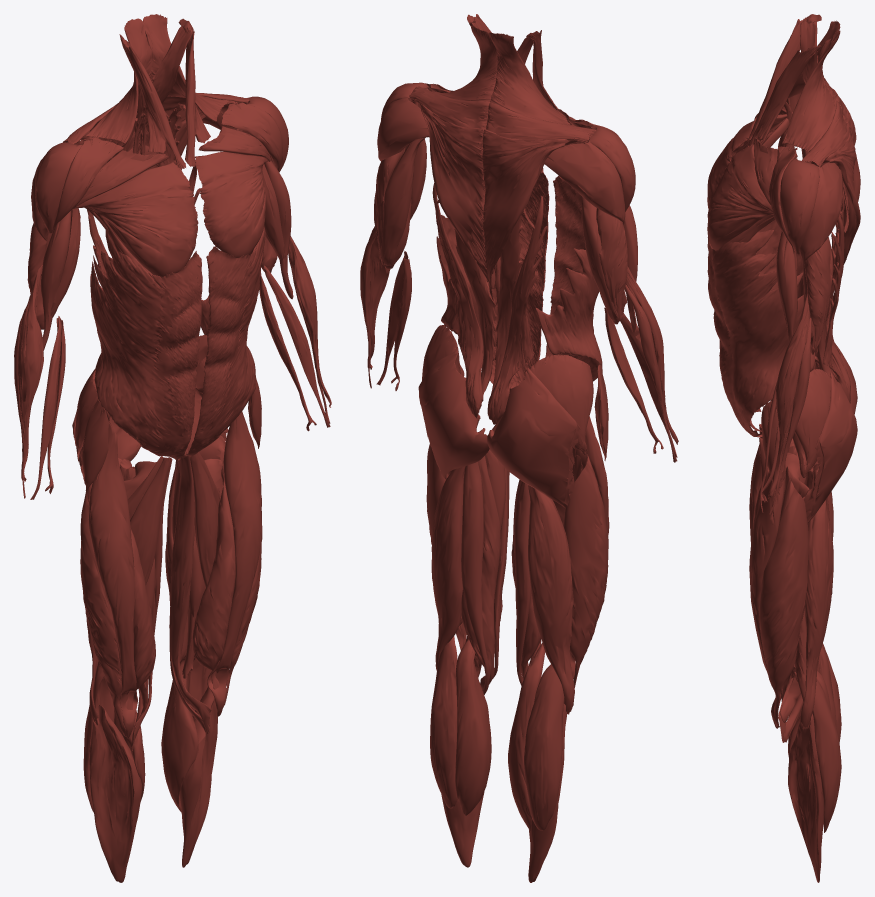
Rendered from bodyparts3d-muscles.b37dea4a.glb.
3 views of the same model, side by side, from view 1: azimuth 30°, elevation 25°; view 2: azimuth 150°, elevation 25°; view 3: azimuth 270°, elevation 25° (orthographic).
Parts seen in each view (by area): view 1: muscle__abdominals__right_external_oblique, muscle__abdominals__left_external_oblique, muscle__chest__right_sternocostal_pectoralis_major, muscle__quadriceps__right_rectus_femoris, muscle__quadriceps__left_rectus_femoris, muscle__calves__right_soleus, muscle__chest__left_sternocostal_pectoralis_major, muscle__quadriceps__left_vastus_medialis, muscle__adductors__left_gracilis, muscle__quadriceps__right_vastus_lateralis, muscle__calves__left_soleus, muscle__calves__left_medial_gastrocnemius (+38 smaller); view 2: muscle__glutes__right_gluteus_maximus, muscle__abdominals__right_external_oblique, muscle__hamstrings__right_long_head_biceps_femoris, muscle__quadriceps__right_vastus_lateralis, muscle__traps__left_ascending_trapezius, muscle__traps__right_ascending_trapezius, muscle__glutes__left_gluteus_maximus, muscle__calves__right_lateral_gastrocnemius, muscle__calves__left_medial_gastrocnemius, muscle__abdominals__left_external_oblique, muscle__hamstrings__left_long_head_biceps_femoris, muscle__lower_back__right_iliocostalis_lumborum (+40 smaller); view 3: muscle__abdominals__left_external_oblique, muscle__quadriceps__left_vastus_lateralis, muscle__hamstrings__left_long_head_biceps_femoris, muscle__chest__left_sternocostal_pectoralis_major, muscle__calves__left_soleus, muscle__glutes__left_gluteus_maximus, muscle__traps__left_descending_trapezius, muscle__quadriceps__left_rectus_femoris, muscle__shoulders__left_lateral_deltoid, muscle__calves__left_lateral_gastrocnemius, muscle__forearms__left_brachioradialis, muscle__shoulders__left_posterior_deltoid (+30 smaller).
Part boxes in pixels (box(x1,y1,x2,y2)): muscle__abdominals__right_external_oblique: box(90, 230, 202, 459); muscle__abdominals__left_external_oblique: box(184, 226, 265, 456); muscle__chest__right_sternocostal_pectoralis_major: box(73, 162, 198, 276); muscle__quadriceps__right_rectus_femoris: box(88, 422, 137, 738); muscle__quadriceps__left_rectus_femoris: box(207, 411, 262, 716); muscle__calves__right_soleus: box(89, 705, 142, 882); muscle__chest__left_sternocostal_pectoralis_major: box(195, 152, 267, 257); muscle__quadriceps__left_vastus_medialis: box(192, 466, 235, 689); muscle__adductors__left_gracilis: box(169, 453, 211, 733); muscle__quadriceps__right_vastus_lateralis: box(80, 483, 126, 736); muscle__calves__left_soleus: box(179, 683, 217, 867); muscle__calves__left_medial_gastrocnemius: box(161, 655, 198, 812); muscle__glutes__right_gluteus_maximus: box(487, 368, 580, 508); muscle__abdominals__right_external_oblique: box(535, 175, 602, 381); muscle__hamstrings__right_long_head_biceps_femoris: box(528, 485, 574, 713); muscle__quadriceps__right_vastus_lateralis: box(563, 447, 608, 687); muscle__traps__left_ascending_trapezius: box(419, 103, 493, 288); muscle__traps__right_ascending_trapezius: box(482, 129, 577, 288); muscle__glutes__left_gluteus_maximus: box(418, 350, 489, 479); muscle__calves__right_lateral_gastrocnemius: box(524, 664, 564, 830); muscle__calves__left_medial_gastrocnemius: box(455, 639, 491, 815); muscle__abdominals__left_external_oblique: box(436, 168, 549, 388); muscle__hamstrings__left_long_head_biceps_femoris: box(431, 466, 465, 670); muscle__lower_back__right_iliocostalis_lumborum: box(487, 196, 547, 424); muscle__abdominals__left_external_oblique: box(707, 229, 814, 437); muscle__quadriceps__left_vastus_lateralis: box(759, 466, 808, 727); muscle__hamstrings__left_long_head_biceps_femoris: box(800, 472, 833, 728); muscle__chest__left_sternocostal_pectoralis_major: box(707, 144, 773, 250); muscle__calves__left_soleus: box(788, 714, 823, 882); muscle__glutes__left_gluteus_maximus: box(804, 372, 857, 522); muscle__traps__left_descending_trapezius: box(782, 30, 840, 151); muscle__quadriceps__left_rectus_femoris: box(749, 432, 788, 728); muscle__shoulders__left_lateral_deltoid: box(780, 158, 819, 254); muscle__calves__left_lateral_gastrocnemius: box(794, 671, 841, 832); muscle__forearms__left_brachioradialis: box(768, 289, 809, 498); muscle__shoulders__left_posterior_deltoid: box(800, 162, 843, 263).
Bounding box in the file's own units: 2.44 × 6.41 × 1.06.
